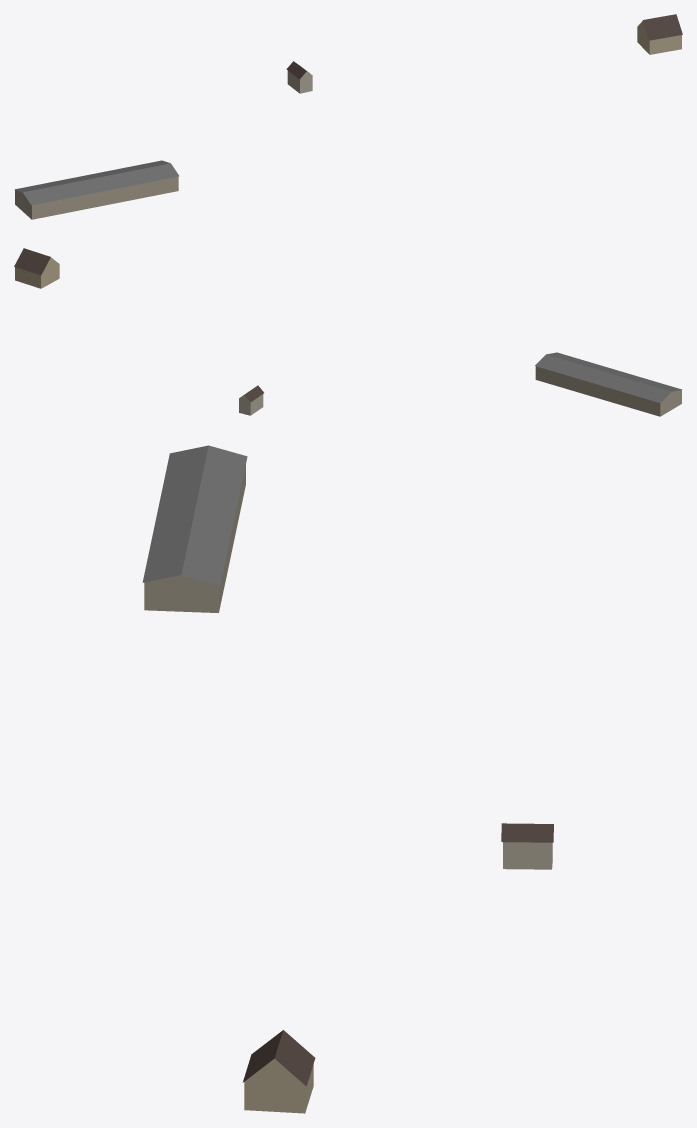
3 renders of one model, top to bottom at view 1: azimuth 30°, elevation 25°; view 2: azimuth 150°, elevation 25°; view 3: azimuth 270°, elevation 25°, orthographic. The views are drawn at different scales.
Visible parts, largest first — view 1: buildings; view 2: buildings; view 3: buildings.
Boxes of the visible parts, x1=… form: buildings: x1=14, y1=14, x2=682, y2=219; buildings: x1=14, y1=248, x2=682, y2=416; buildings: x1=142, y1=445, x2=553, y2=1113.
Size of the model in its own units: 280 by 18.76 by 78.78.
